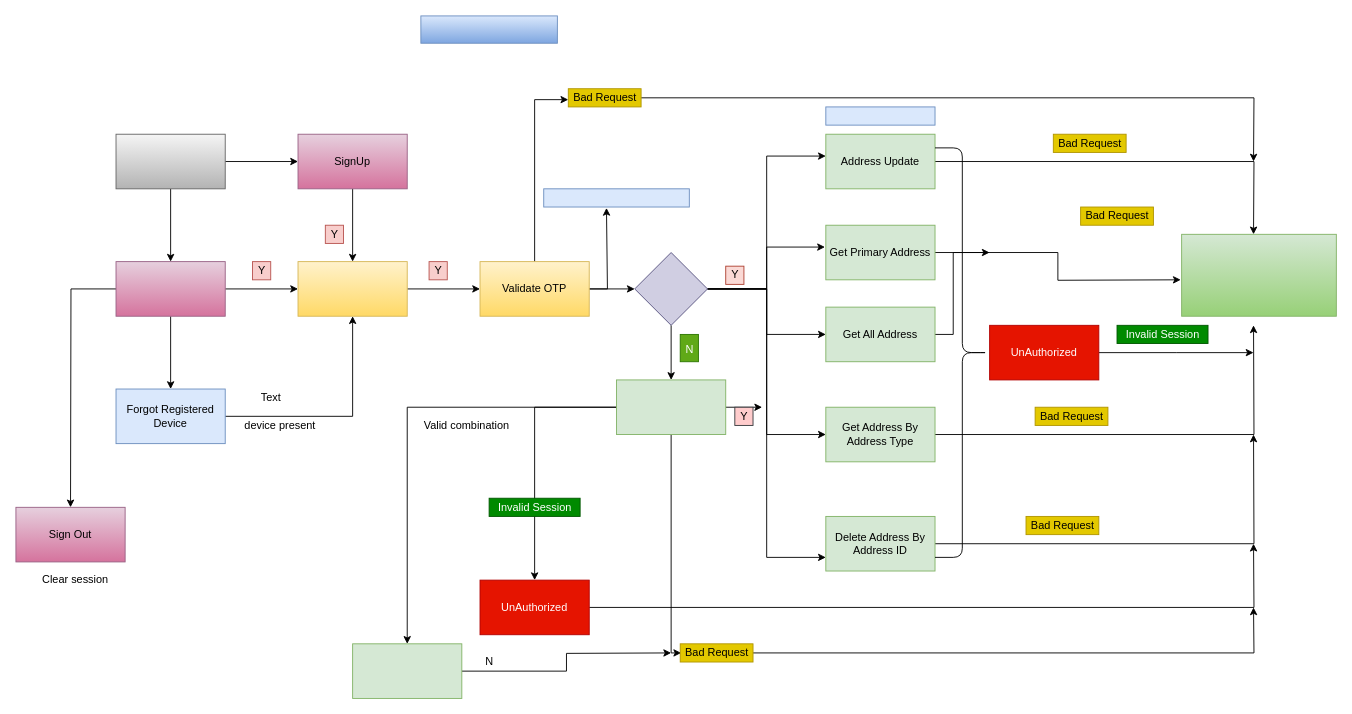
The diagram is 1352 pixels wide and 714 high, and some of its shapes have lost their labels. Each missing label, with the centre of its shape:
Address ADD: point 671,407
Address Exists: point 671,288
Authenticated Flows: point 880,115
Centralized Exception: point 1258,274
Logged In Session Started: point 616,197
Member System: point 488,29
Send OTP: point 352,288
SignIn: point 170,288
State Zip Validation: point 407,670
Website: point 170,161
